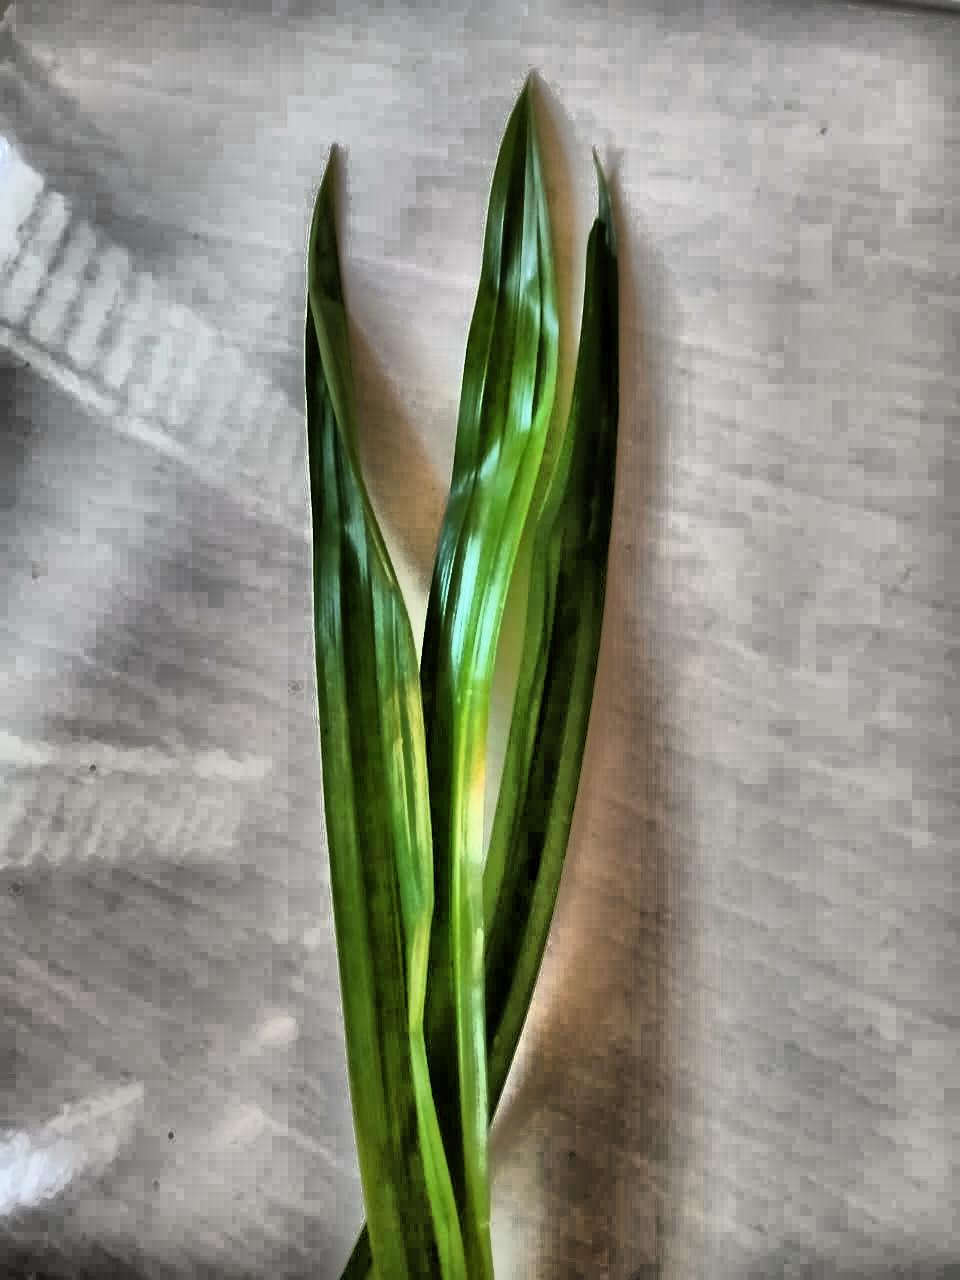daun pandan: (305, 84, 619, 1279)
